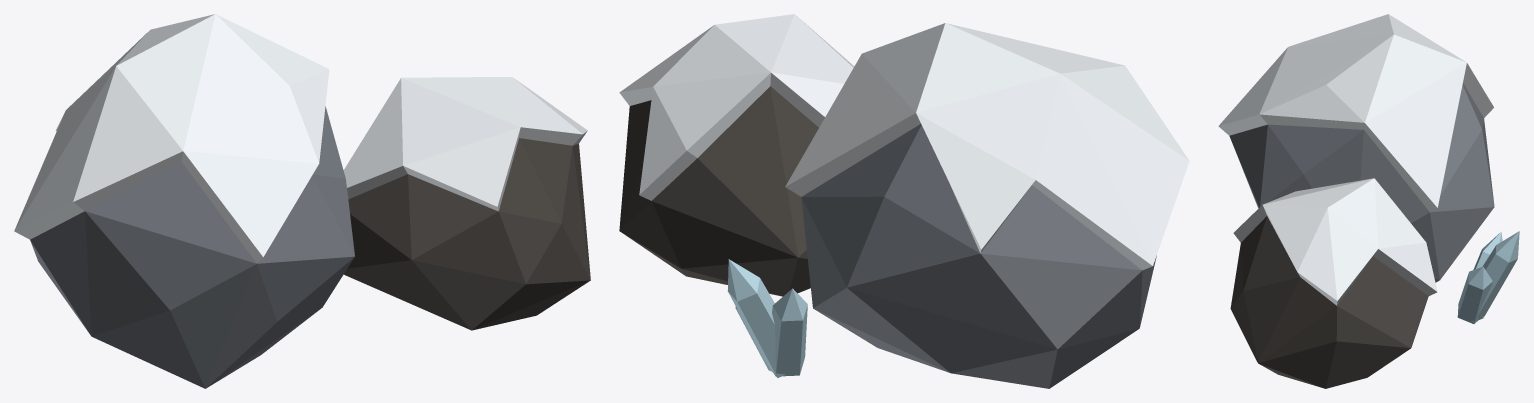
File: rocher_toundra_2.glb
3 renders of one model, left to right at view 1: azimuth 30°, elevation 25°; view 2: azimuth 150°, elevation 25°; view 3: azimuth 270°, elevation 25°, orthographic. The views are drawn at different scales.
Visible parts, largest first — view 1: neige_neige.006, roche_granite.006, roche_pierre_sombre.010; view 2: neige_neige.006, roche_granite.006, roche_pierre_sombre.010, glace_glace.002; view 3: neige_neige.006, roche_pierre_sombre.010, roche_granite.006, glace_glace.002.
Part boxes in pixels (x1=…): neige_neige.006: x1=14, y1=14, x2=587, y2=263; roche_granite.006: x1=30, y1=106, x2=354, y2=388; roche_pierre_sombre.010: x1=344, y1=138, x2=590, y2=330; neige_neige.006: x1=619, y1=14, x2=1189, y2=270; roche_granite.006: x1=801, y1=124, x2=1156, y2=388; roche_pierre_sombre.010: x1=619, y1=86, x2=818, y2=296; glace_glace.002: x1=727, y1=259, x2=807, y2=377; neige_neige.006: x1=1218, y1=14, x2=1493, y2=305; roche_pierre_sombre.010: x1=1230, y1=216, x2=1428, y2=388; roche_granite.006: x1=1229, y1=83, x2=1494, y2=282; glace_glace.002: x1=1457, y1=231, x2=1519, y2=323.
Size of the model in its own units: 0.9721 by 0.5419 by 0.6011.
